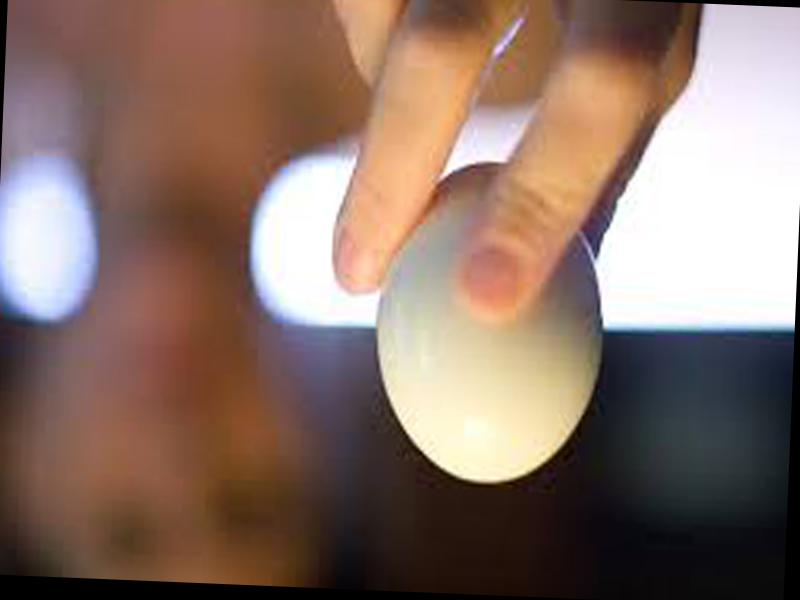Eggs: (365, 156, 605, 487)
